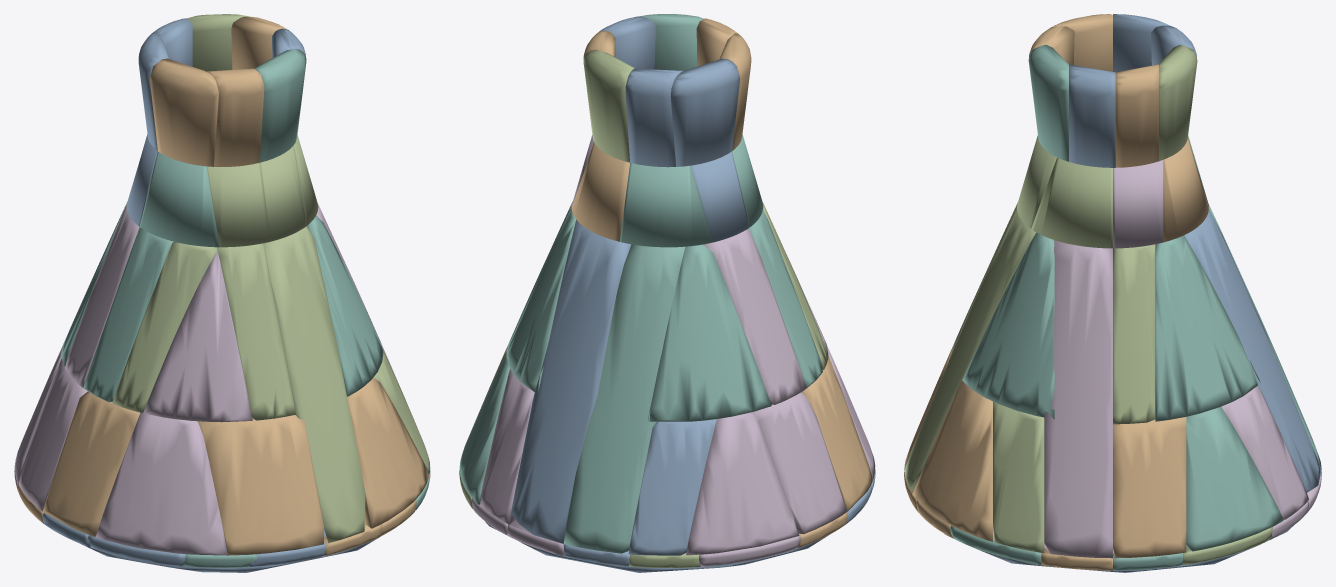
3 renders of one model, left to right at view 1: azimuth 30°, elevation 25°; view 2: azimuth 150°, elevation 25°; view 3: azimuth 270°, elevation 25°, orthographic.
Bounding box in the file's own units: 1.34 × 1.6 × 1.34.
